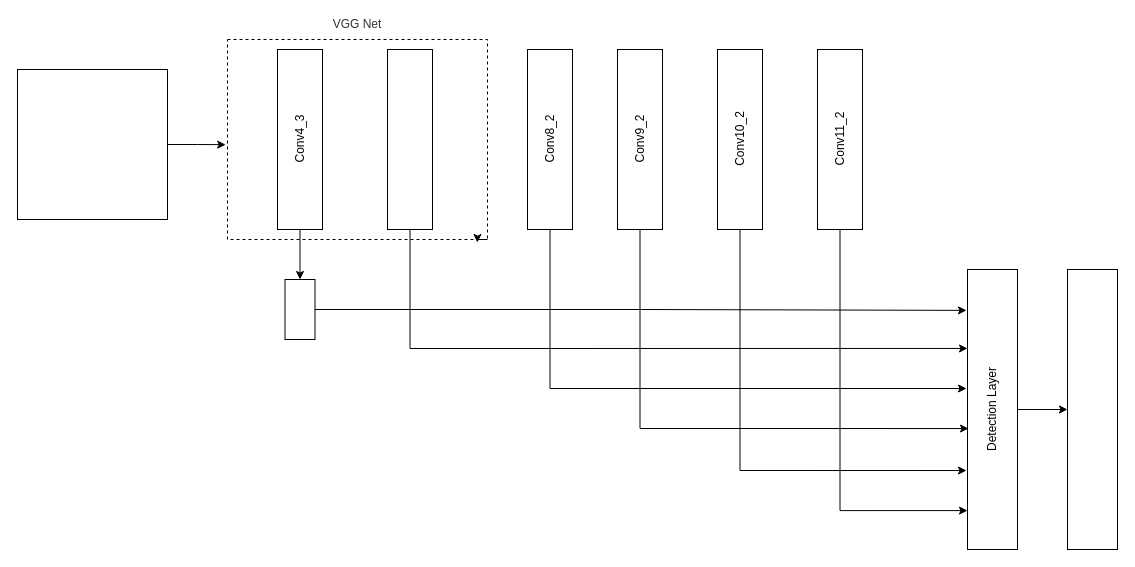
Image size: 1135x567. Some labels were removed from this diagram. Each missing label, with the box of its shape:
Conv7: (386, 48, 432, 230)
Image 300x300: (16, 68, 168, 220)
L2 Norm: (284, 278, 315, 340)
Nonmaximum Suppression: (1066, 268, 1118, 550)
